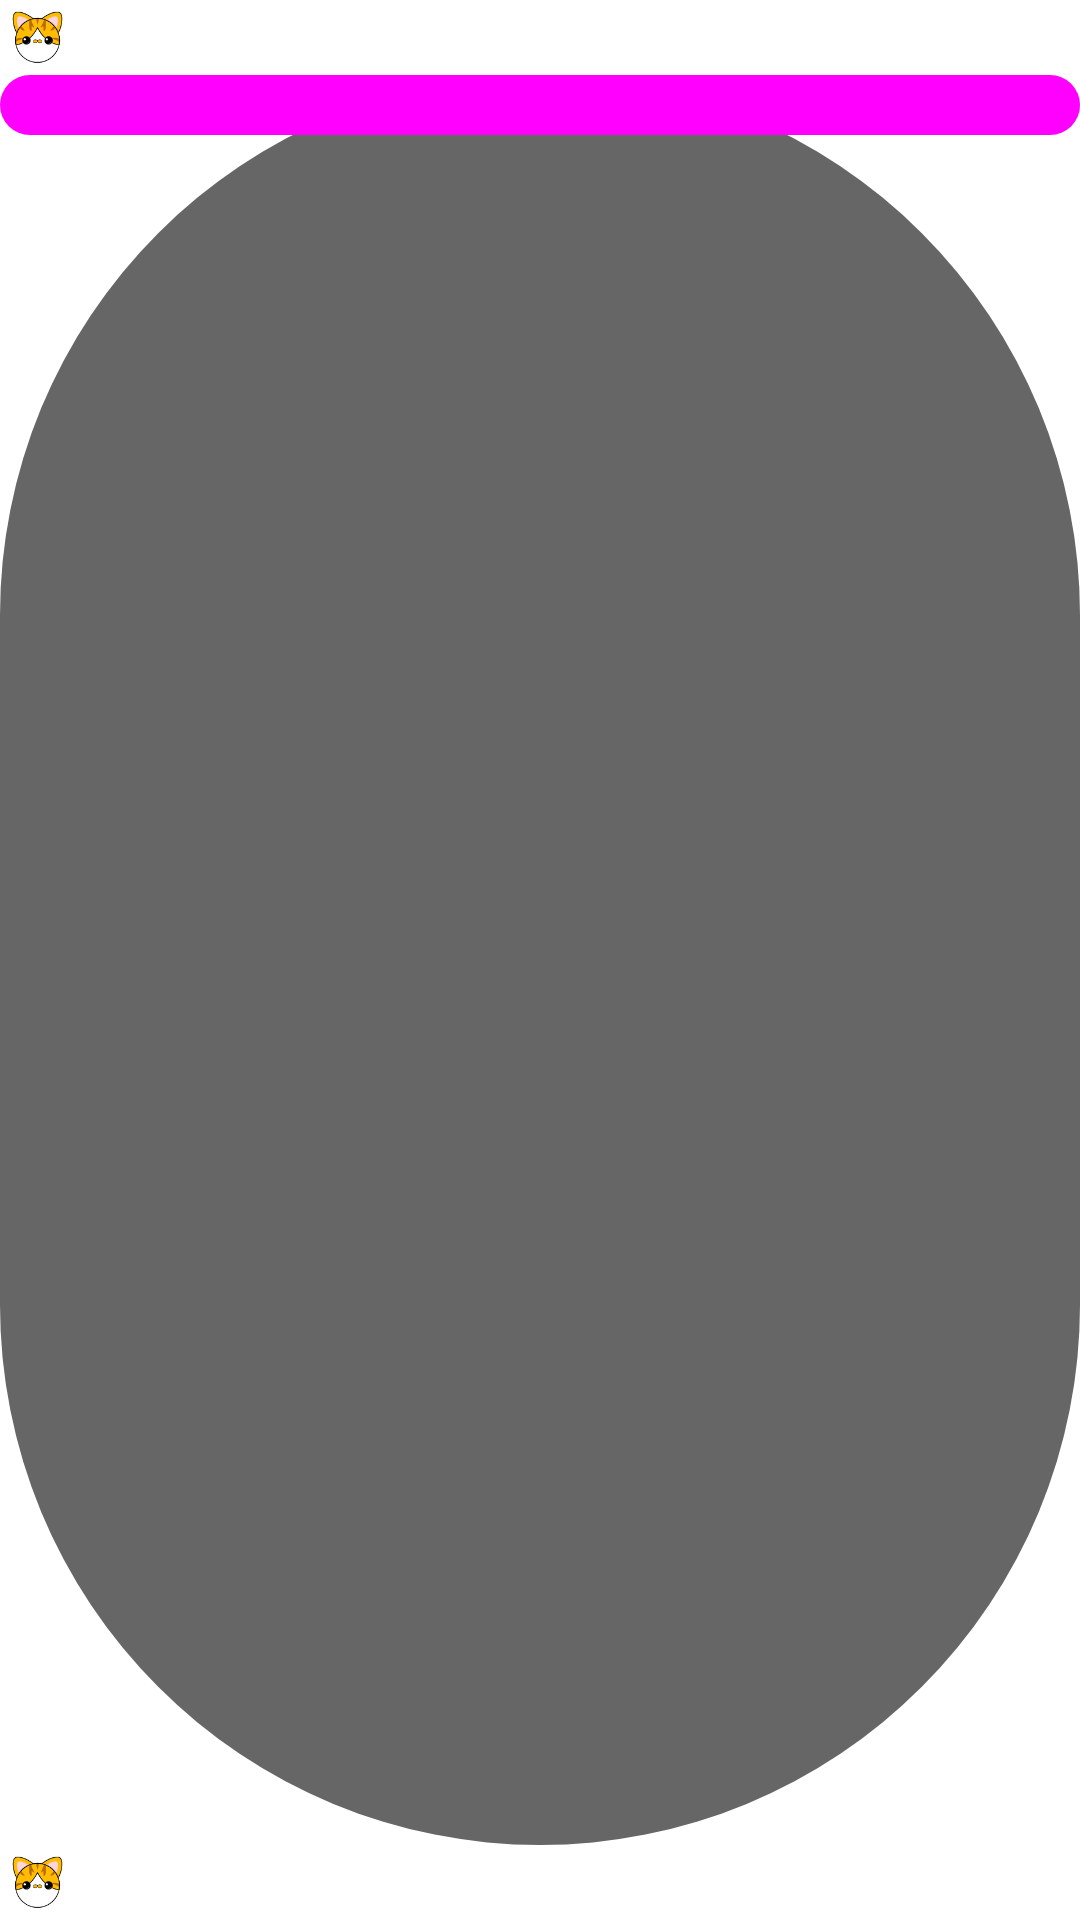

Named icons in this screenshot (1080*1920) and their bounding boxes, (x1, y1, x2, y2):
miaomiao: (12, 11, 63, 63), (12, 1856, 63, 1908)
